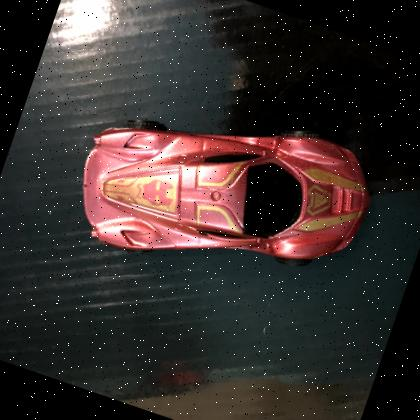Car: (57, 61, 390, 324)
